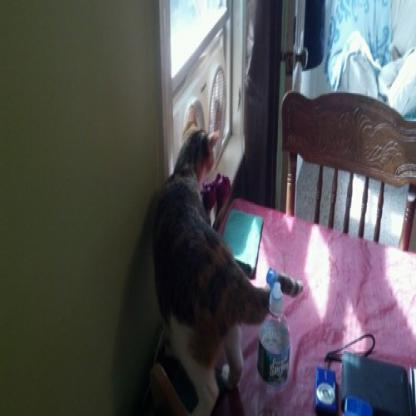Target: (146, 127, 280, 416)
